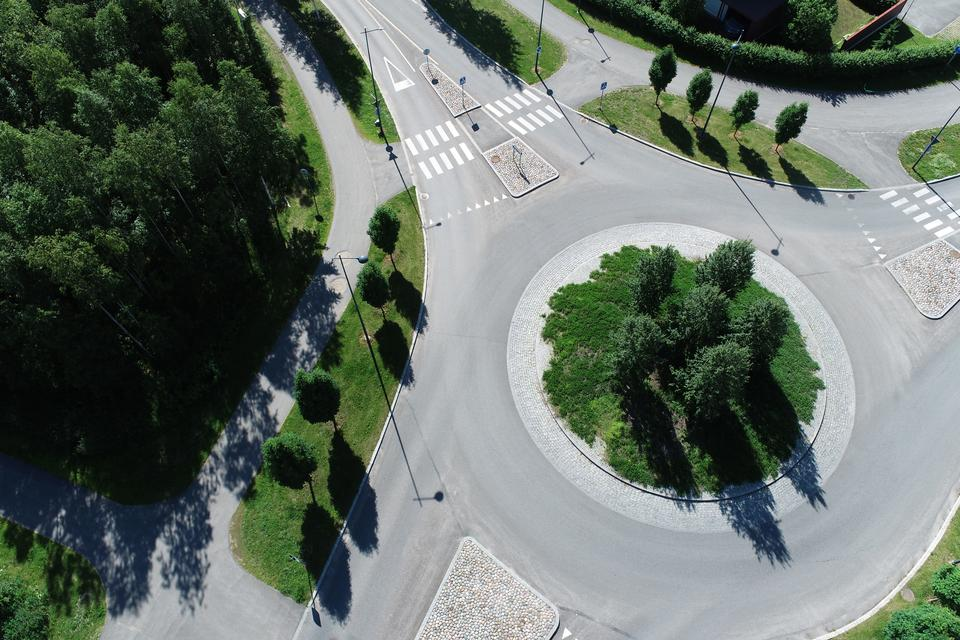intersection: (376, 73, 598, 186)
roundabout: (402, 187, 960, 638)
